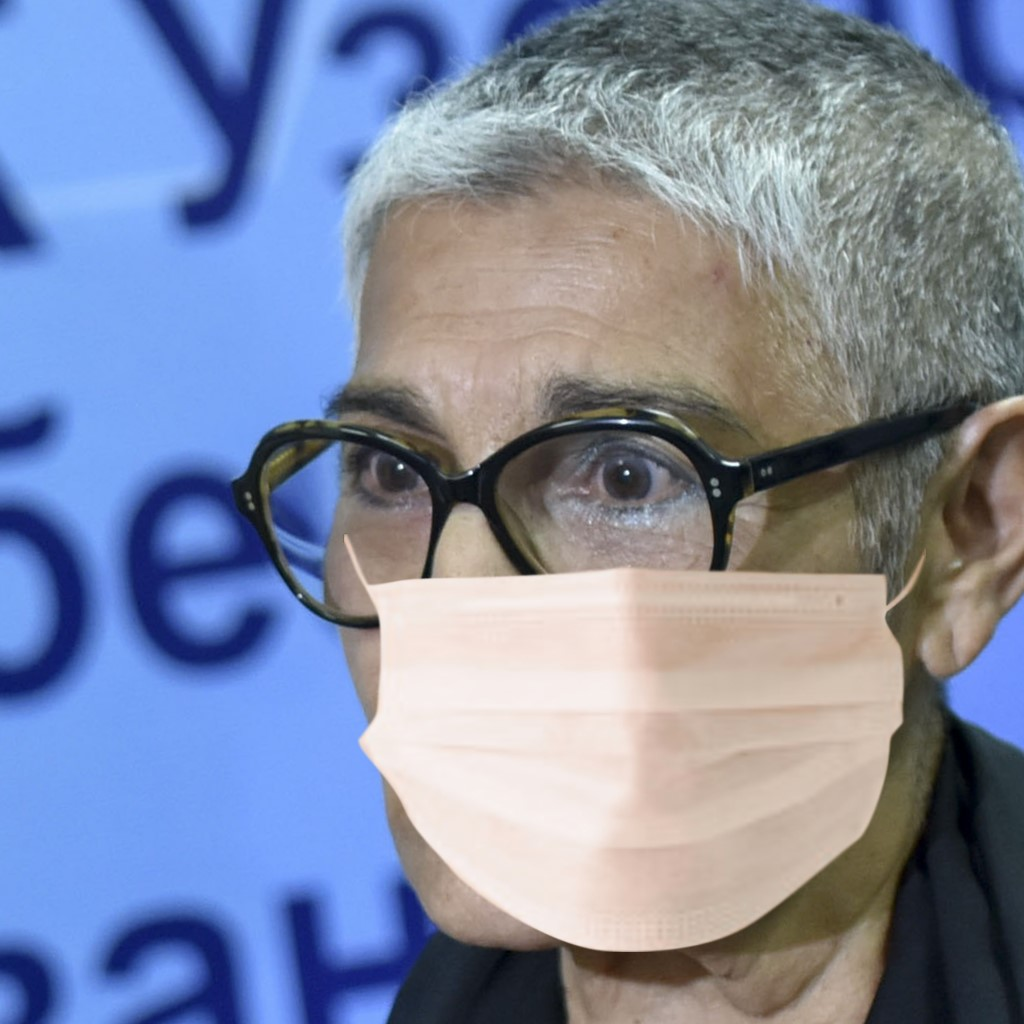con_mascara: (313, 172, 908, 960)
